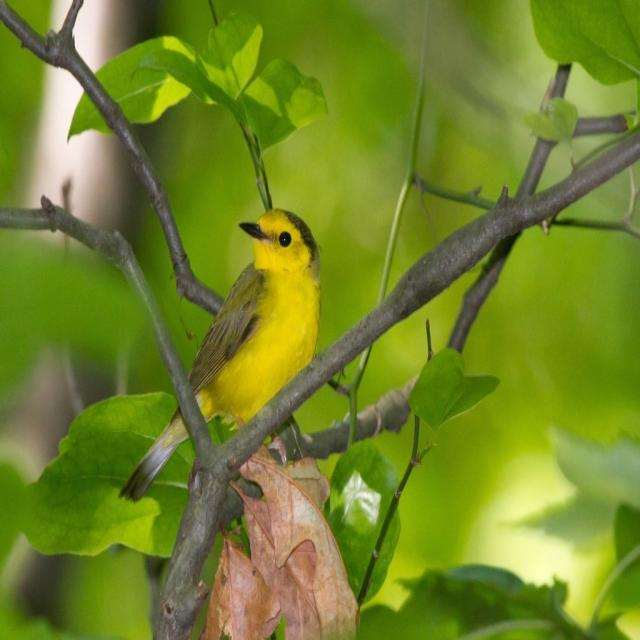bird: (195, 201, 333, 450)
